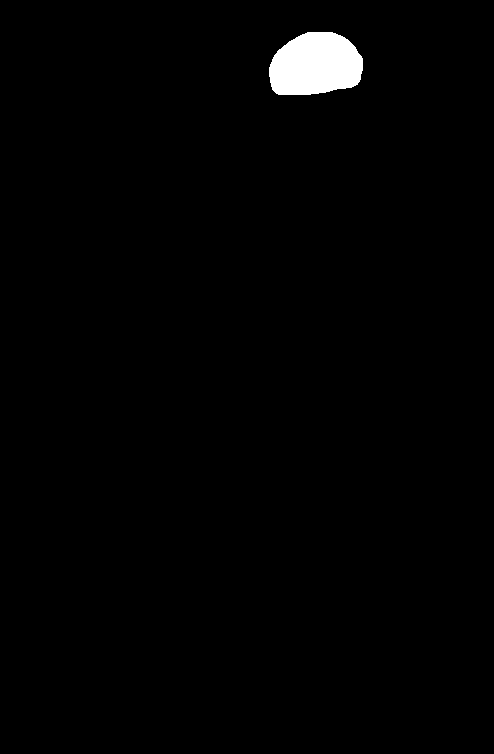veins_detect: (263, 26, 367, 102)
veins_seg: (269, 33, 362, 95)
